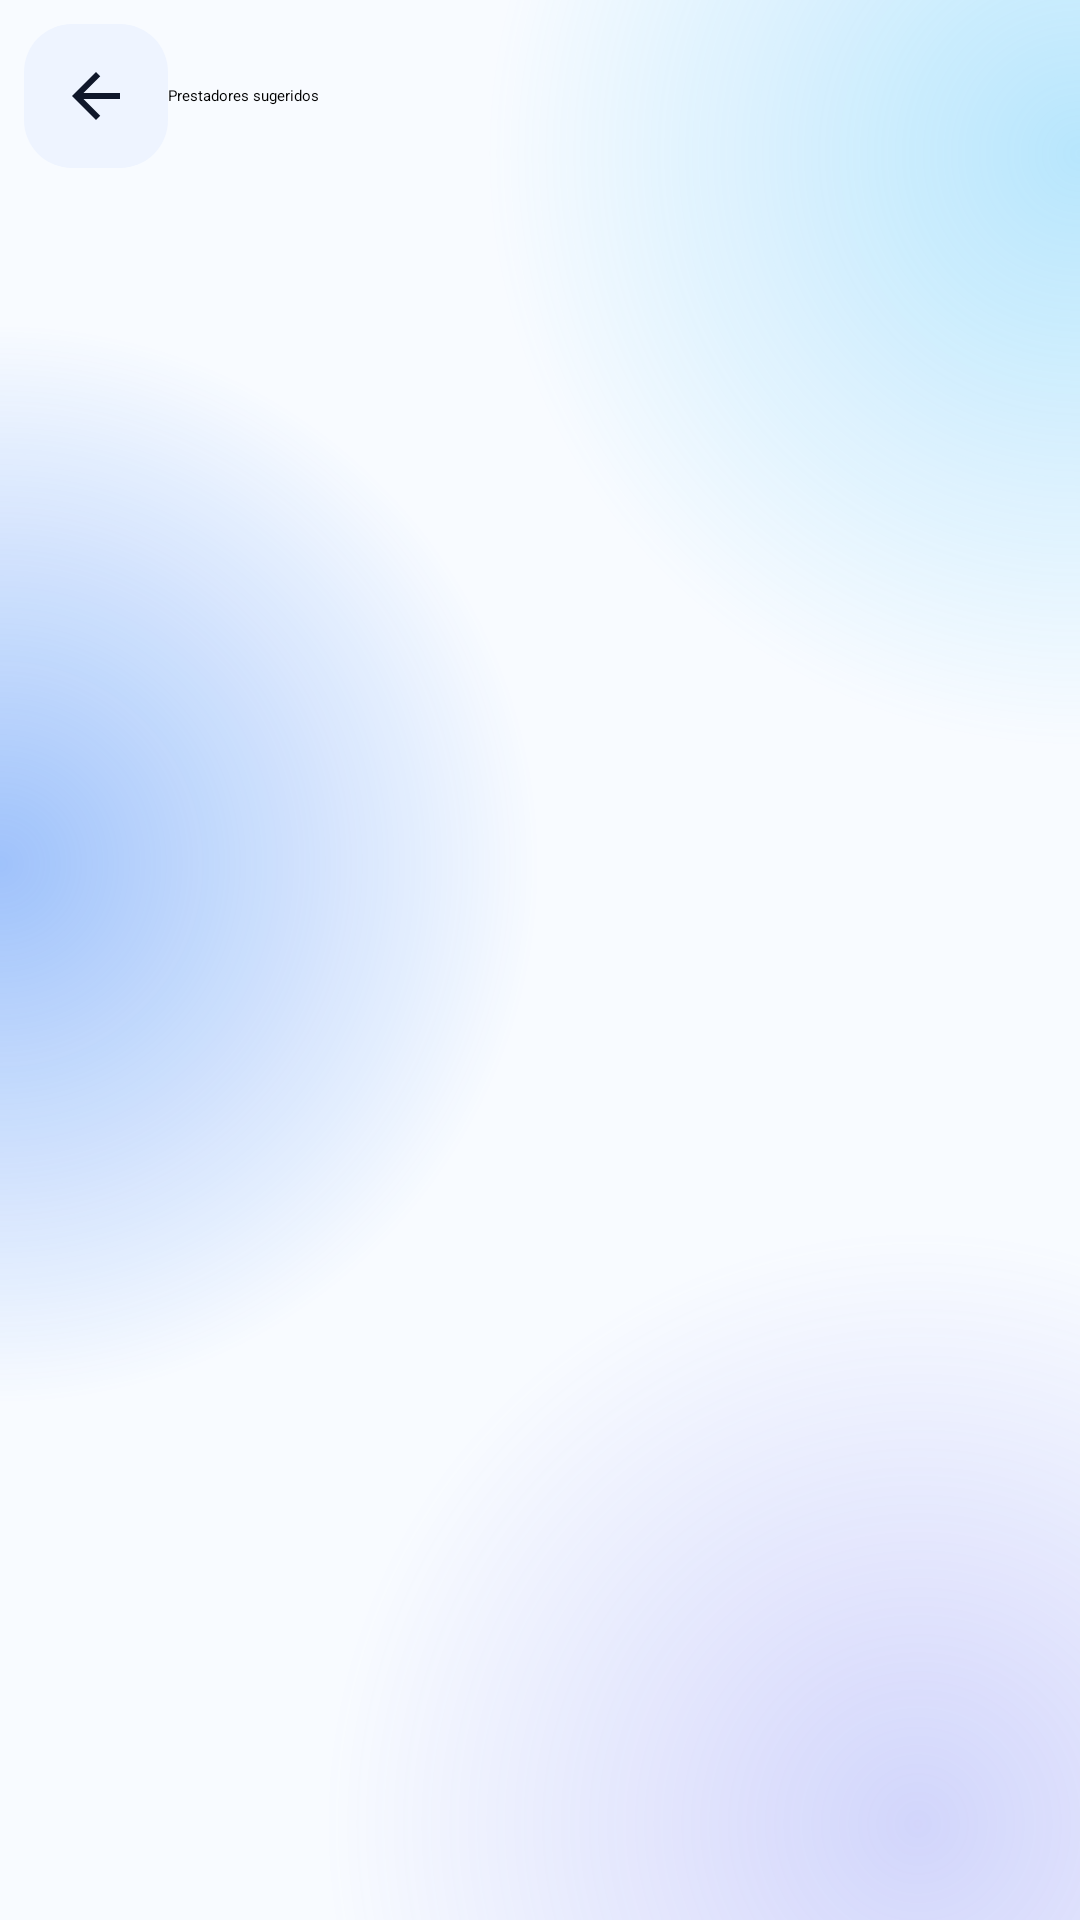

Where to tap for icons on this 1080 x 1920 app screen, as (x,y):
Voltar: (96,96)
